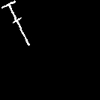double_crochet: (2, 1, 29, 44)
